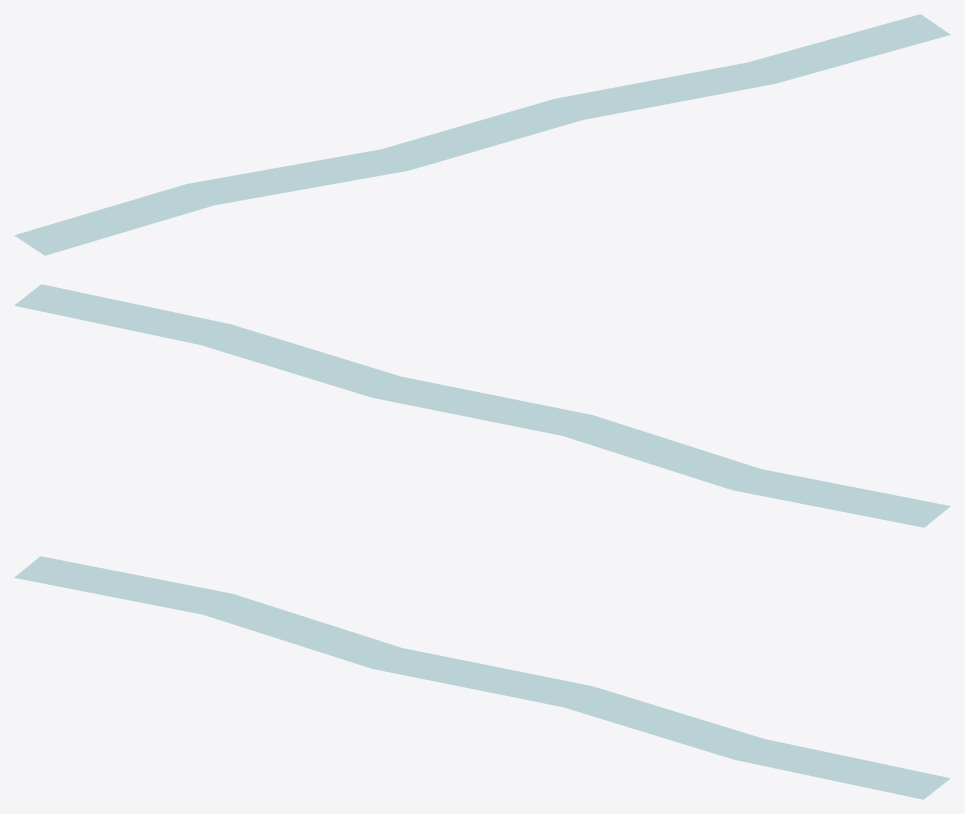
File: water_edge_foam_strip_01.glb
The picture shows the model from 3 angles, top to bottom: view 1: azimuth 30°, elevation 25°; view 2: azimuth 150°, elevation 25°; view 3: azimuth 330°, elevation 25°; orthographic projection.
Parts seen in each view (by area): view 1: water_edge_foam_strip_01; view 2: water_edge_foam_strip_01; view 3: water_edge_foam_strip_01.
Boxes of the visible parts, left/top/right/bottom form: water_edge_foam_strip_01: left=14, top=14, right=950, bottom=255; water_edge_foam_strip_01: left=14, top=284, right=950, bottom=527; water_edge_foam_strip_01: left=14, top=556, right=950, bottom=799.
Size of the model in its own units: 1 by 0 by 0.085.
